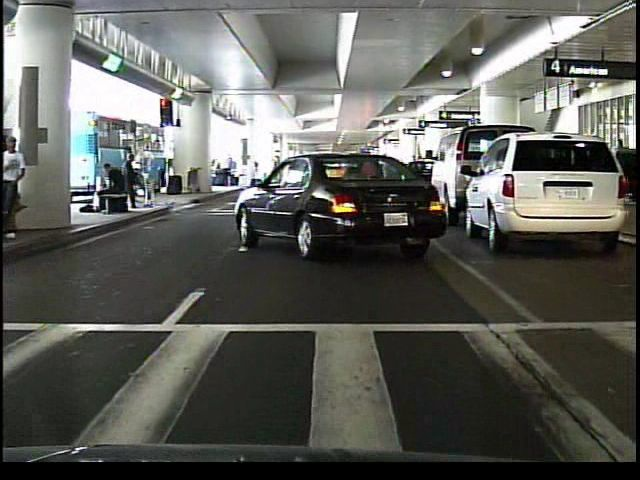person: (92, 162, 128, 219), (118, 147, 146, 219)
